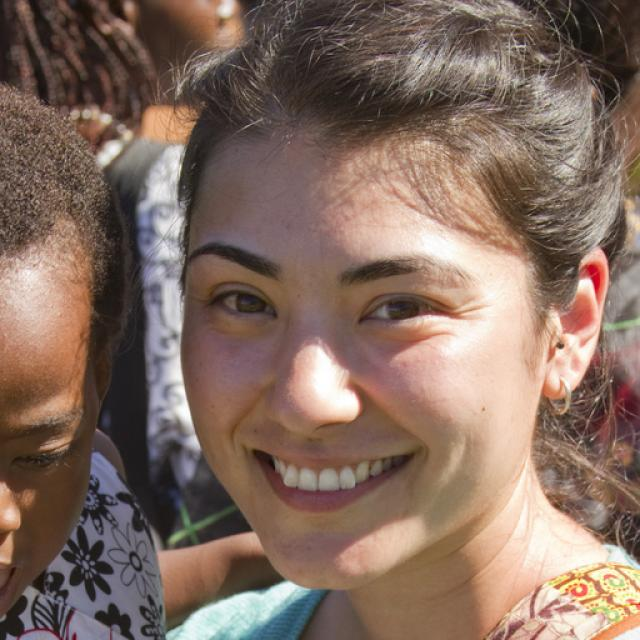happy: (181, 102, 540, 594), (0, 234, 91, 636)
